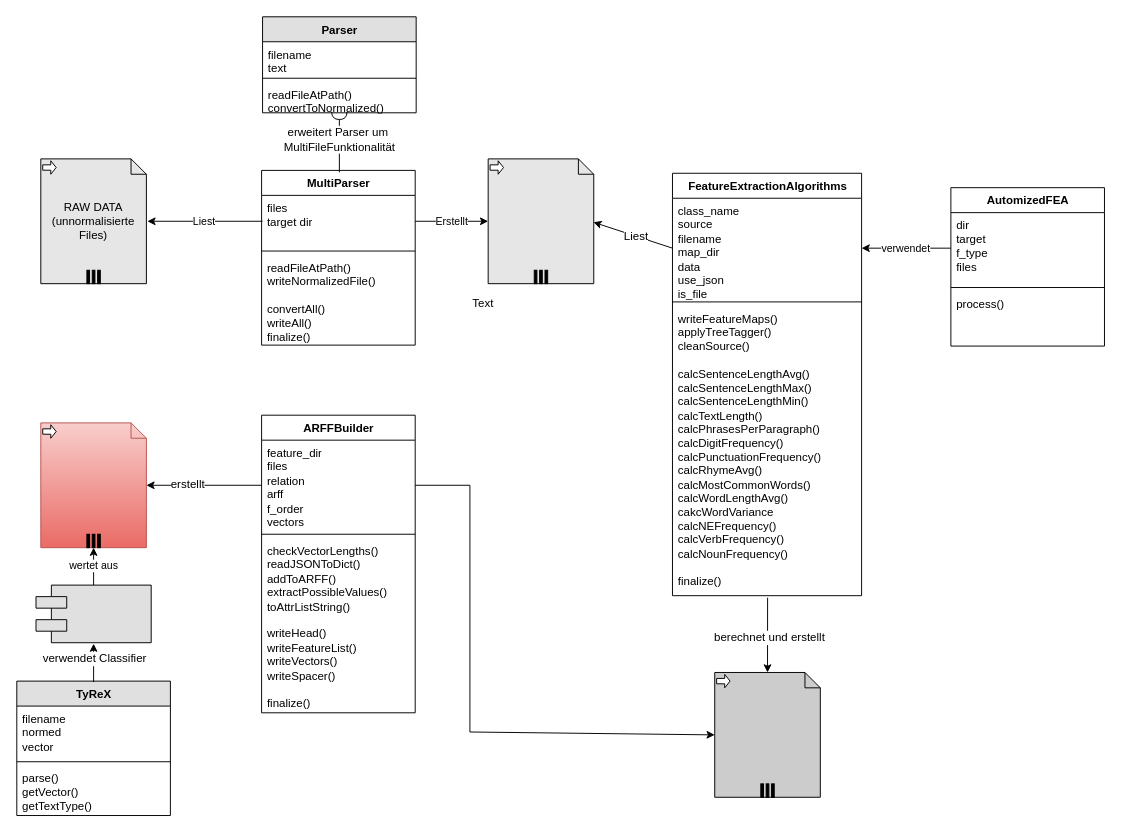
Image size: 1121x835. Some labels were removed from this diagram. Here are the shapes that lost their labels. From the top down, the centre of each, then its label:
At pixel 540 221: "DATA (genormte Files)".
At pixel 93 485: "ARFF FILE (alle Vektoren als .arff)".
At pixel 93 613: "WEKA".
At pixel 767 734: "FEATURE MAPS (JSON Files mit Vectordaten)".
